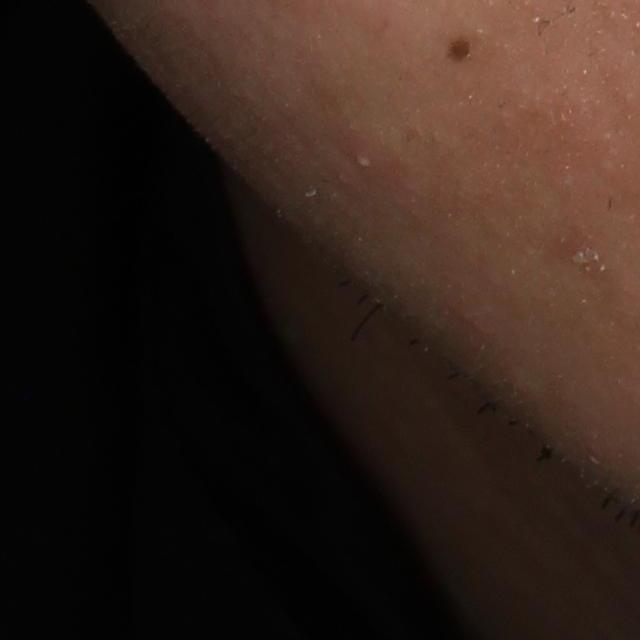nevus: (445, 35, 472, 64)
